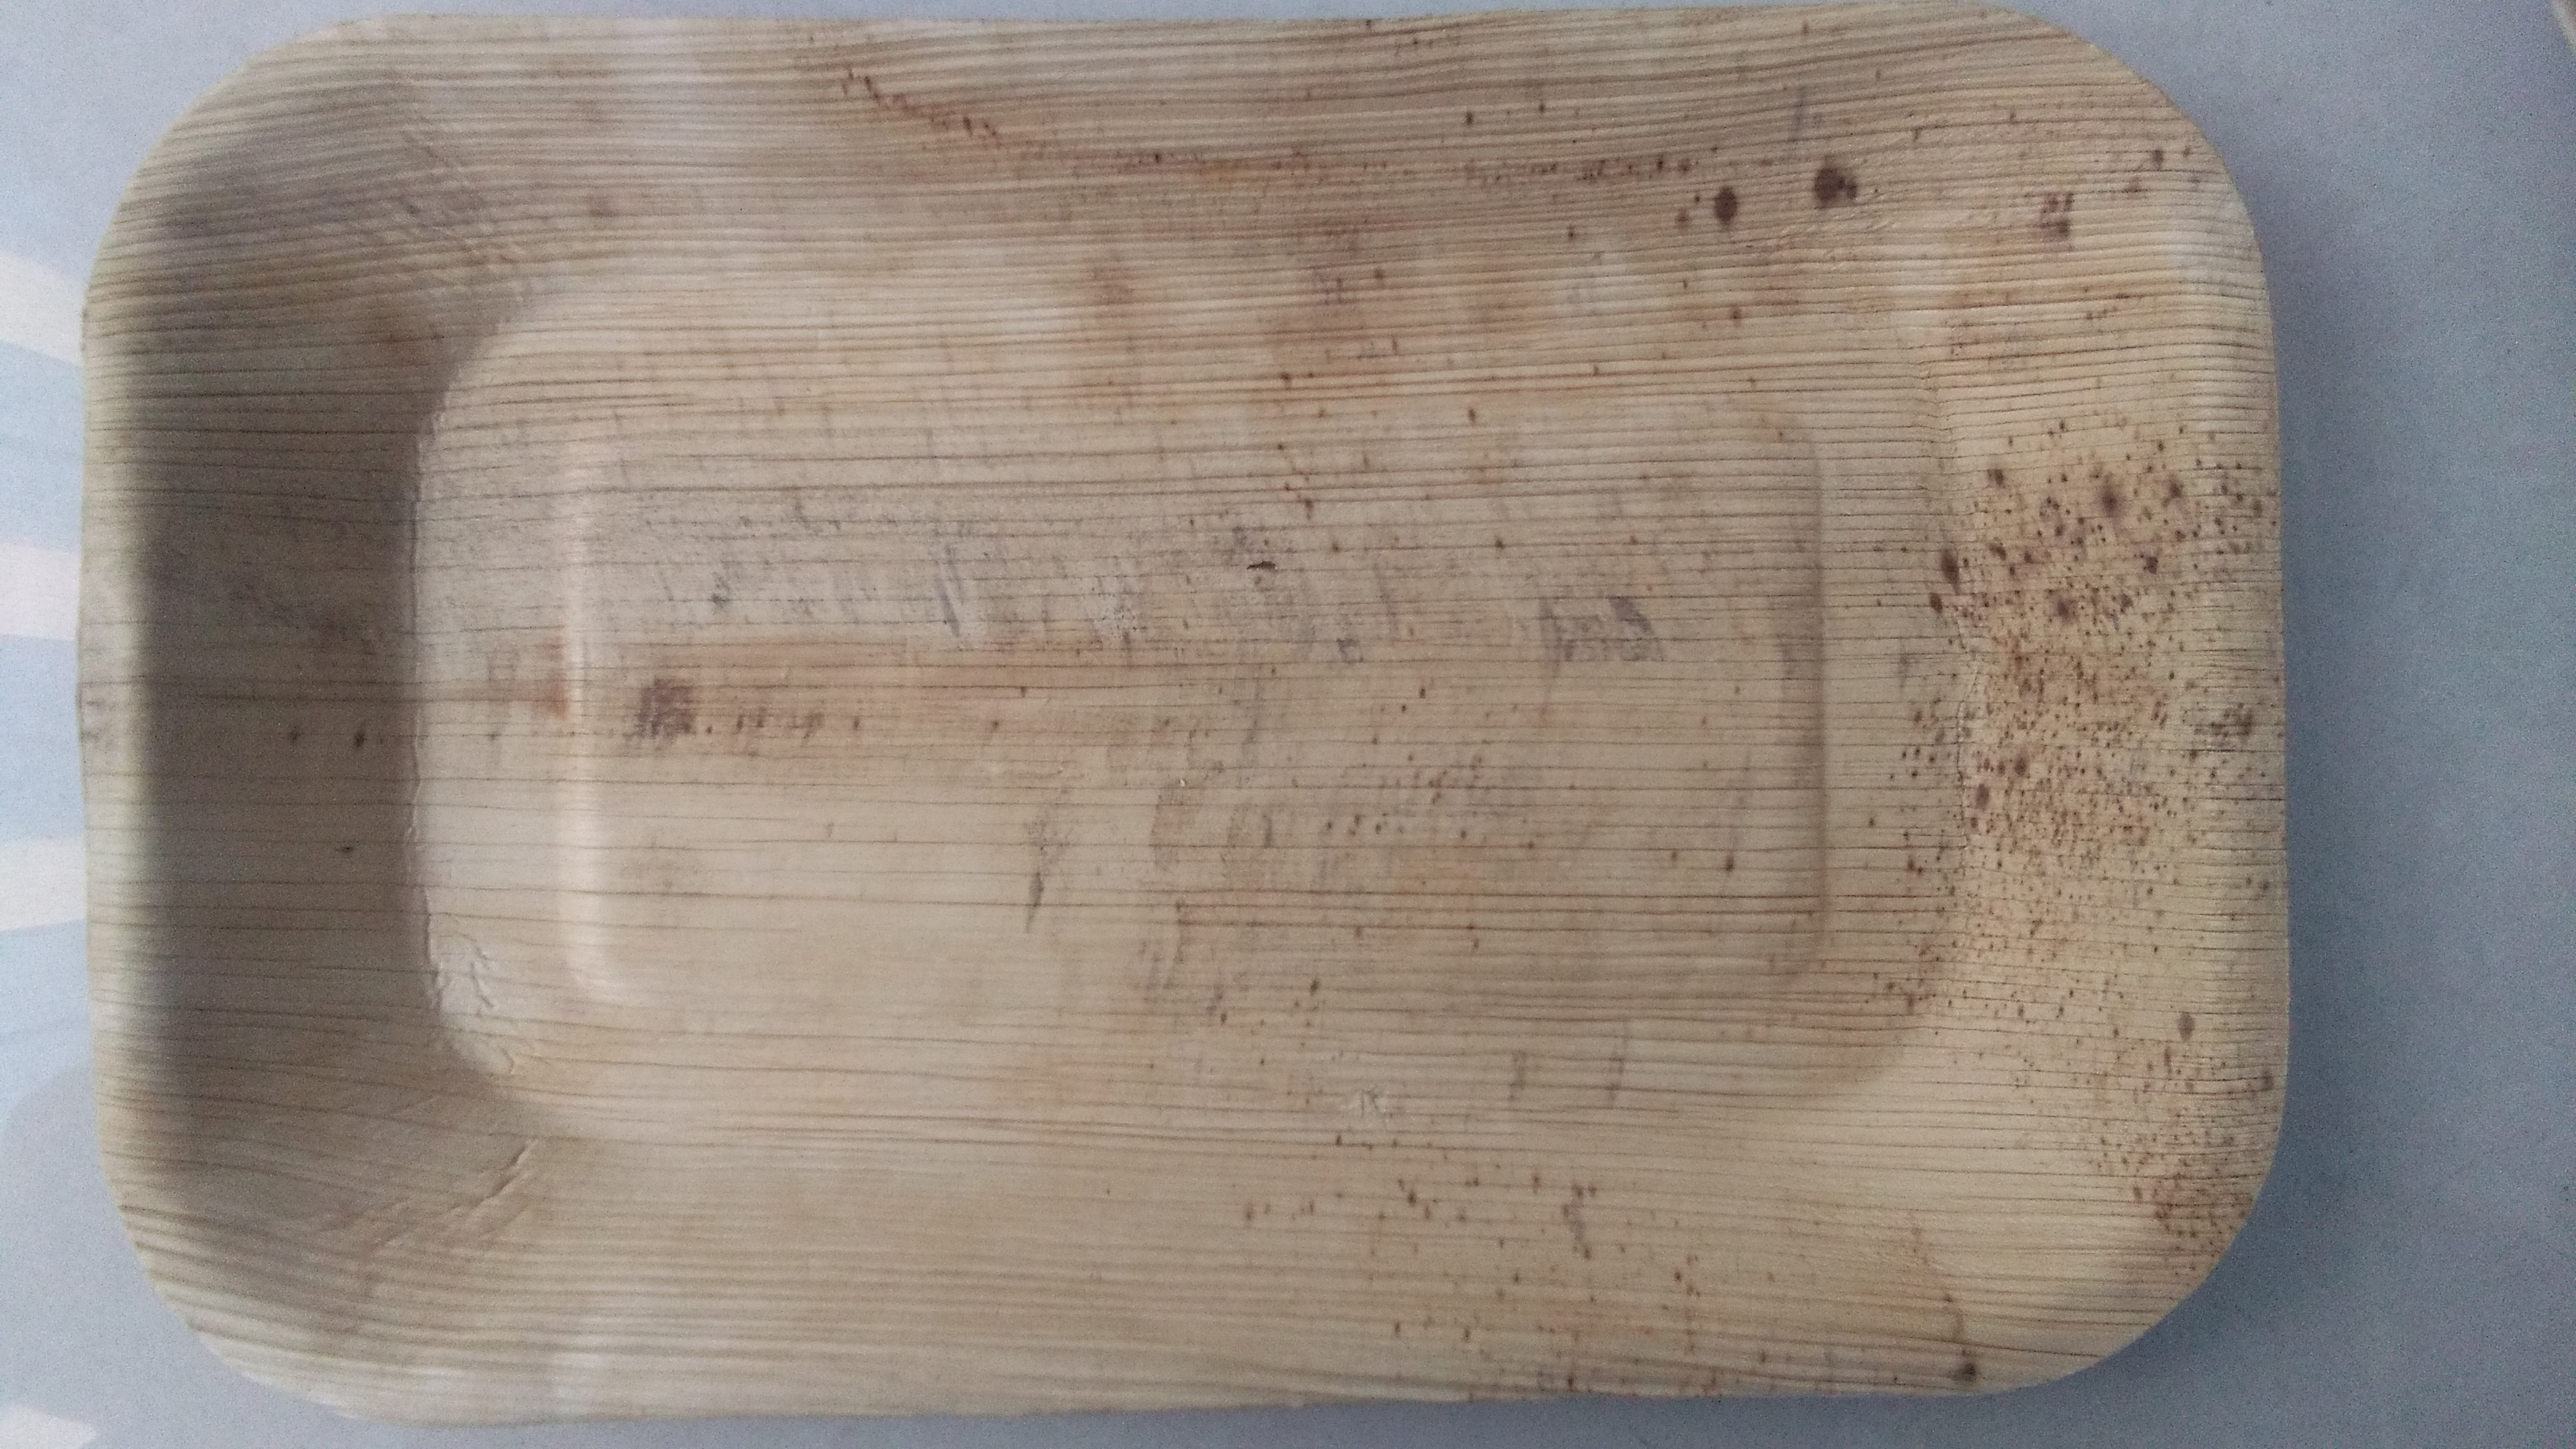areca plate: (64, 11, 2291, 1408)
